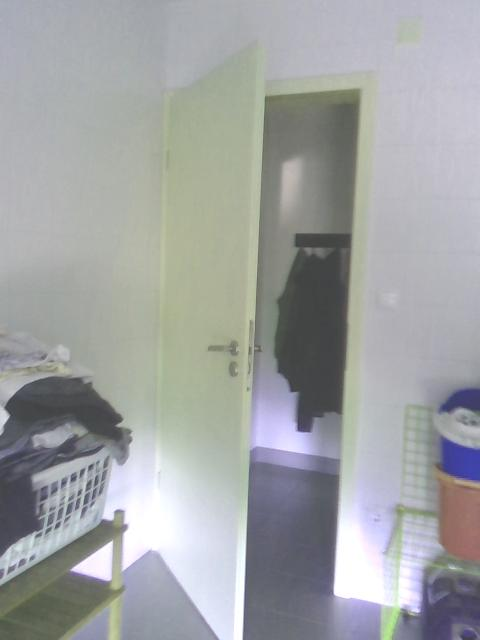semi_door: (150, 35, 380, 639)
